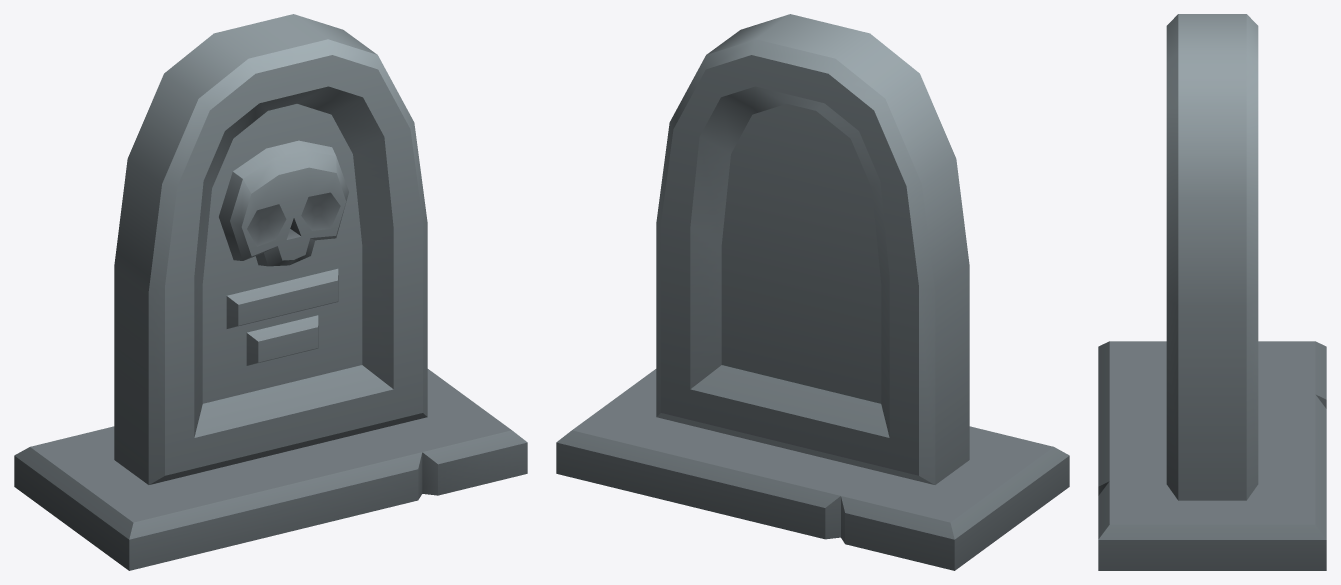
File: grave_A.obj
The picture shows the model from 3 angles, left to right: view 1: azimuth 30°, elevation 25°; view 2: azimuth 150°, elevation 25°; view 3: azimuth 270°, elevation 25°; orthographic projection.
Parts seen in each view (by area): view 1: grave_A_Cube.103; view 2: grave_A_Cube.103; view 3: grave_A_Cube.103.
Boxes of the visible parts, <box> form: grave_A_Cube.103: <box>14,14,527,570</box>; grave_A_Cube.103: <box>556,14,1069,570</box>; grave_A_Cube.103: <box>1098,14,1326,570</box>.
Size of the model in its own units: 2 by 2.13 by 1.
Materials: 1 (1 with a texture image).
